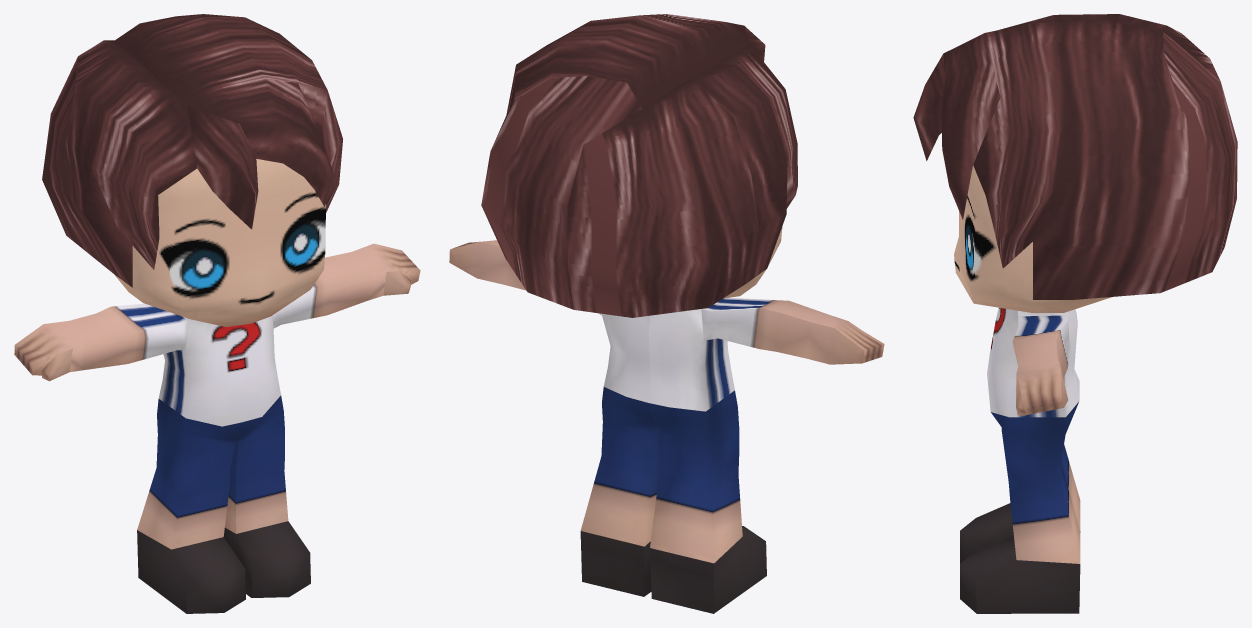
The model's file is tpose-static.glb.
3 views of the same model, side by side, from view 1: azimuth 30°, elevation 25°; view 2: azimuth 150°, elevation 25°; view 3: azimuth 270°, elevation 25° (orthographic). The views are drawn at different scales.
Visible parts, largest first — view 1: Body, Hair_Simple_ScruffySide, Head; view 2: Hair_Simple_ScruffySide, Body; view 3: Hair_Simple_ScruffySide, Body, Head.
Part boxes in pixels (box(x1,y1,x2,y2)): Body: box(14, 243, 420, 613); Hair_Simple_ScruffySide: box(42, 14, 342, 287); Head: box(114, 159, 325, 326); Hair_Simple_ScruffySide: box(481, 14, 797, 317); Body: box(449, 240, 884, 613); Hair_Simple_ScruffySide: box(913, 14, 1237, 299); Body: box(960, 307, 1080, 613); Head: box(954, 165, 1111, 312).
Size of the model in its own units: 1.15 by 1.49 by 0.7916.
Materials: 3 (3 with a texture image).
